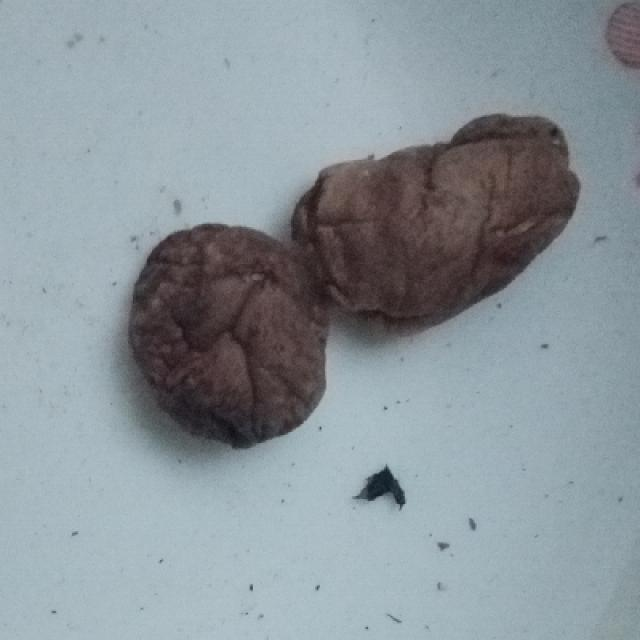Lentinus edodes: (292, 115, 581, 326), (132, 221, 329, 447)
